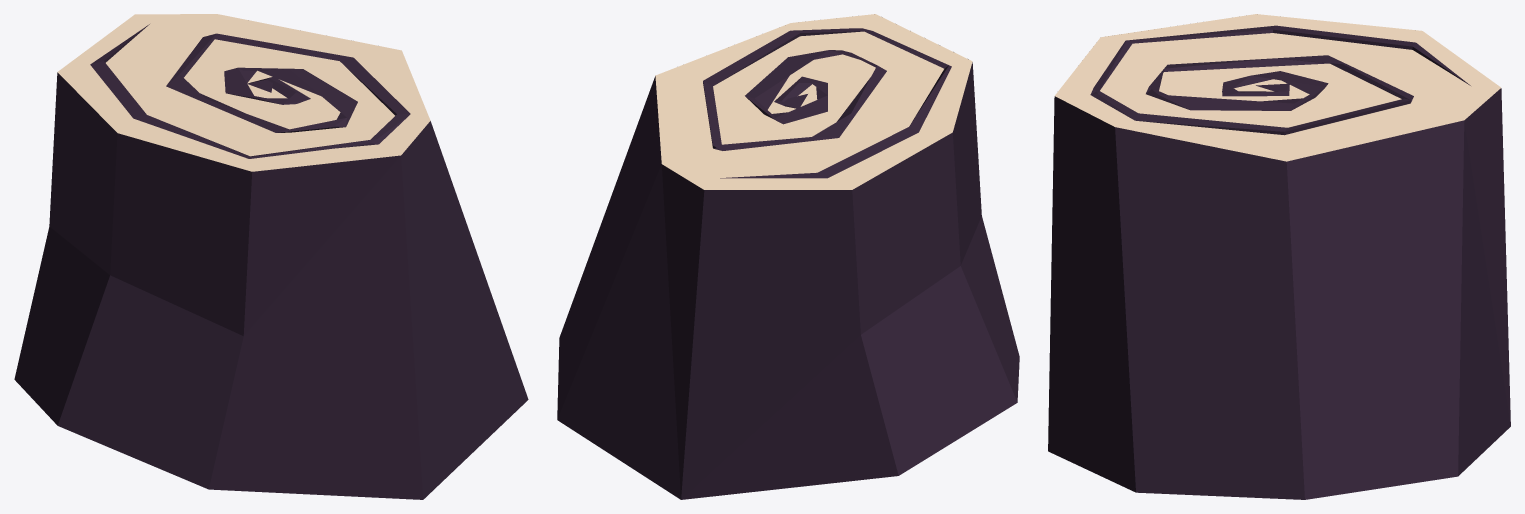
File: sittingLogs_Home.glb
The picture shows the model from 3 angles, left to right: view 1: azimuth 30°, elevation 25°; view 2: azimuth 150°, elevation 25°; view 3: azimuth 270°, elevation 25°; orthographic projection. The views are drawn at different scales.
Parts seen in each view (by area): view 1: Trunk.002; view 2: Trunk.002; view 3: Trunk.002.
Boxes of the visible parts, x1,y1,x2,y2 form: Trunk.002: (14,14,528,499); Trunk.002: (557,14,1019,499); Trunk.002: (1048,14,1510,499).
Bounding box in the file's own units: 6.78 × 4.94 × 5.97.
